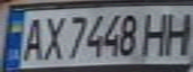4: (84, 11, 109, 58), (103, 10, 124, 58)
7: (63, 11, 87, 60)
8: (118, 10, 145, 57)
A: (18, 14, 48, 62)
H: (139, 9, 175, 57), (160, 8, 193, 56)
X: (39, 12, 66, 61)
